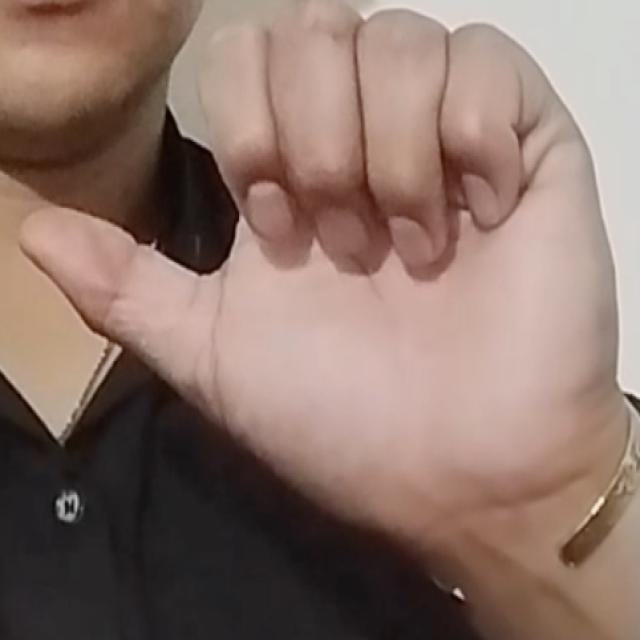A: (8, 0, 632, 572)
